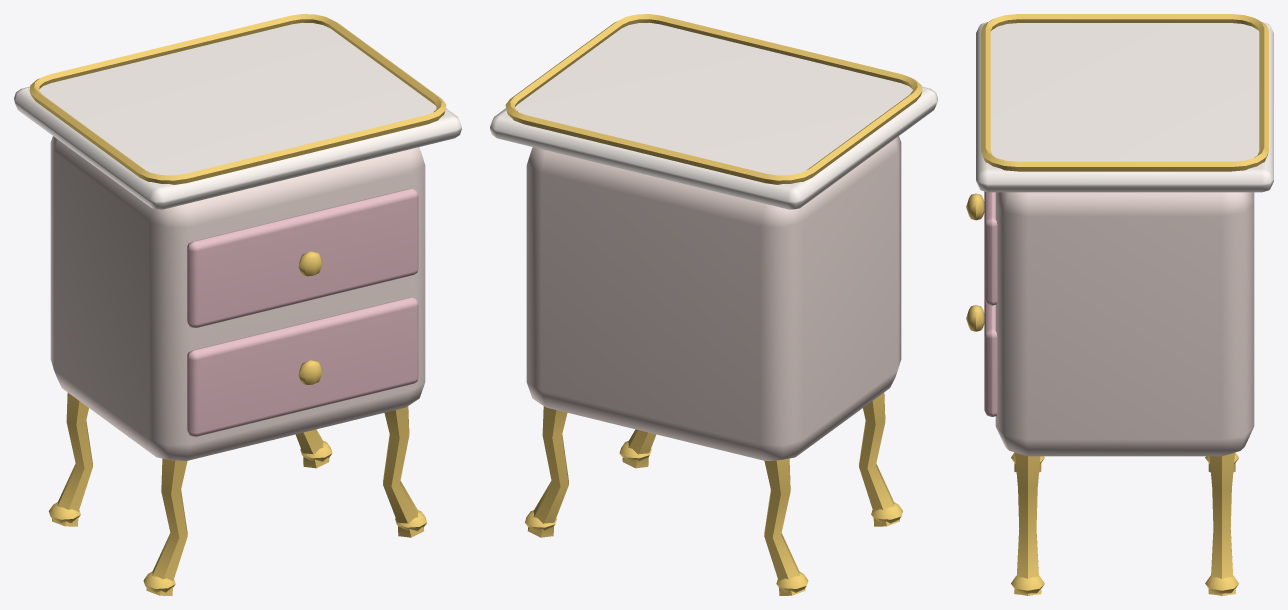
The model's file is nightstand_pink.glb.
The picture shows the model from 3 angles, left to right: view 1: azimuth 30°, elevation 25°; view 2: azimuth 150°, elevation 25°; view 3: azimuth 270°, elevation 25°; orthographic projection. The views are drawn at different scales.
Visible parts, largest first — view 1: nightstand_pink; view 2: nightstand_pink; view 3: nightstand_pink.
Boxes of the visible parts, x1,y1,x2,y2 form: nightstand_pink: (14, 14, 461, 595); nightstand_pink: (490, 14, 937, 595); nightstand_pink: (966, 14, 1273, 595).
Size of the model in its own units: 0.57 by 0.7589 by 0.4754.
